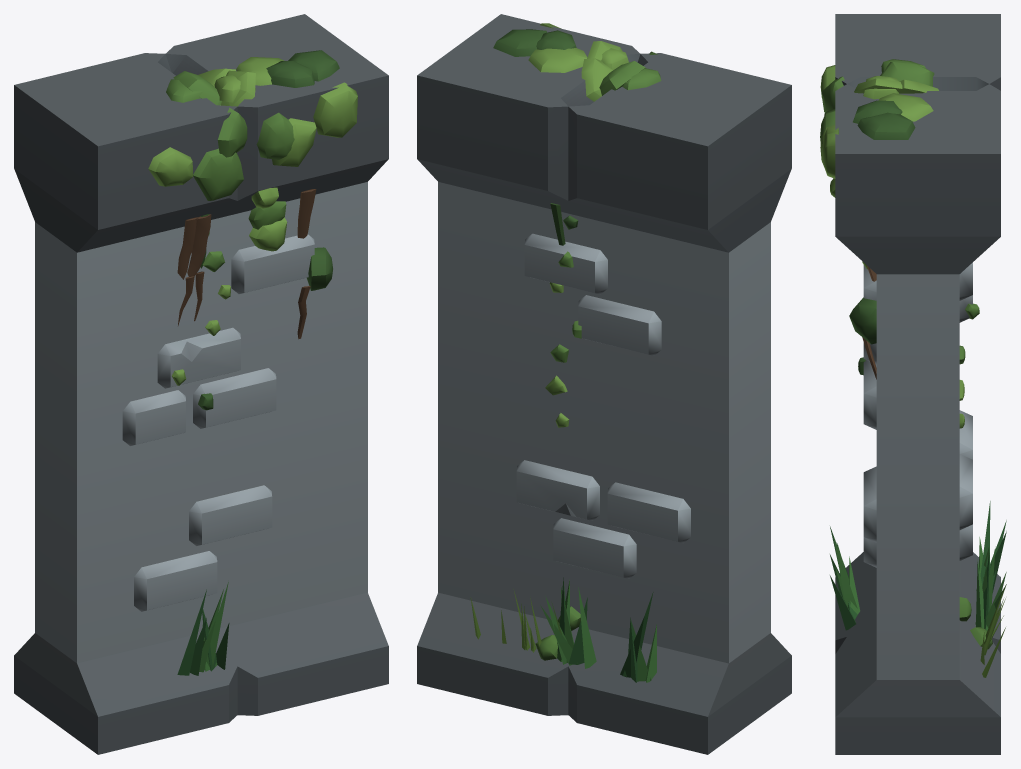
Rendered from wall_overgrown_half_B.glb.
3 views of the same model, side by side, from view 1: azimuth 30°, elevation 25°; view 2: azimuth 150°, elevation 25°; view 3: azimuth 270°, elevation 25° (orthographic).
Parts seen in each view (by area): view 1: Item; view 2: Item; view 3: Item.
Boxes of the visible parts, <box> form: Item: <box>14,14,388,754</box>; Item: <box>417,14,791,754</box>; Item: <box>820,14,1006,754</box>.
Bounding box in the file's own units: 2 × 4.12 × 1.13.
3 materials, 3 textured.
